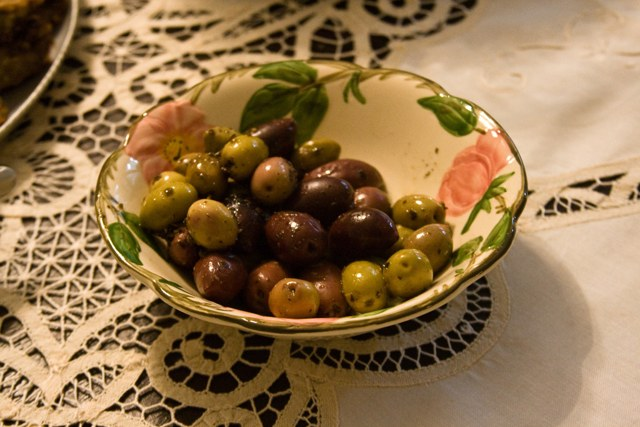bowl: (94, 59, 527, 339)
